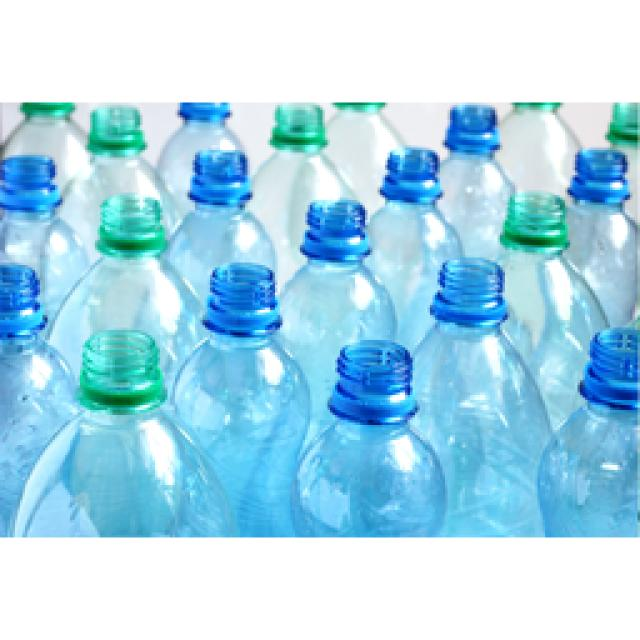plastic_water_bottles: (418, 258, 545, 518), (56, 330, 206, 535), (298, 340, 447, 535), (196, 267, 302, 490), (536, 321, 640, 535), (288, 197, 384, 328), (80, 194, 180, 318), (175, 145, 257, 260), (375, 148, 452, 244)
